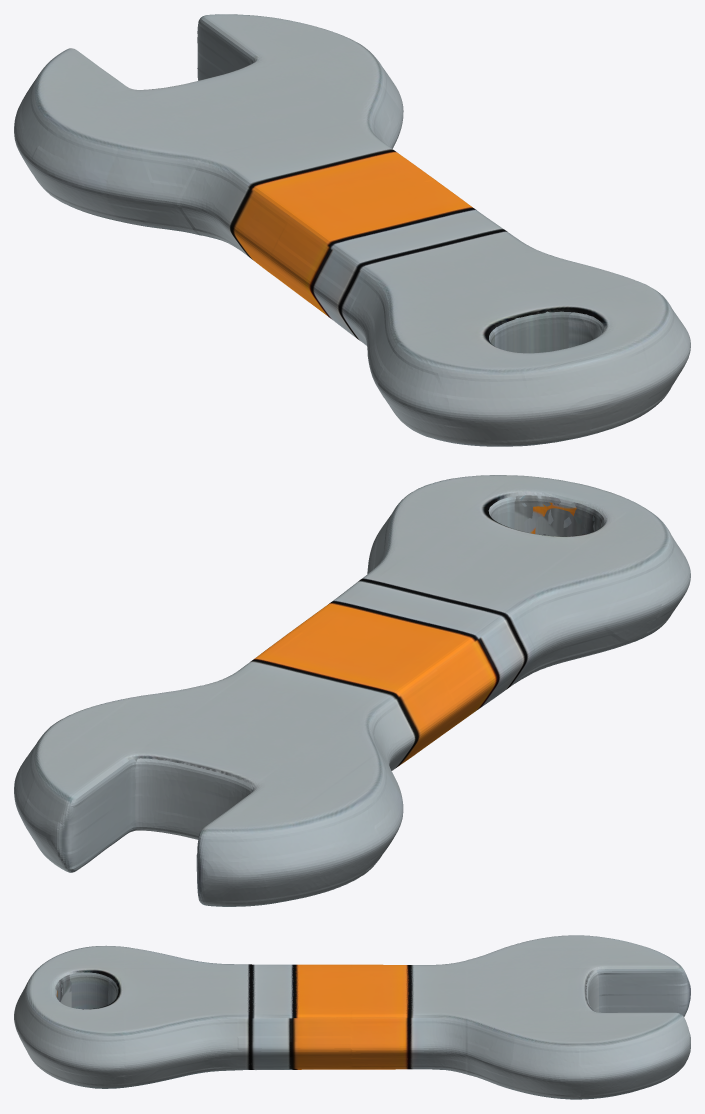
The model's file is hunyuan_space_wrench_textured.glb.
3 views of the same model, one above another, from view 1: azimuth 30°, elevation 25°; view 2: azimuth 150°, elevation 25°; view 3: azimuth 270°, elevation 25° (orthographic). The views are drawn at different scales.
Visible parts, largest first — view 1: tmp7aa1r_93.ply; view 2: tmp7aa1r_93.ply; view 3: tmp7aa1r_93.ply.
Boxes of the visible parts, x1,y1,x2,y2 form: tmp7aa1r_93.ply: (14, 14, 690, 446); tmp7aa1r_93.ply: (14, 475, 690, 906); tmp7aa1r_93.ply: (14, 935, 690, 1099).
Bounding box in the file's own units: 0.8657 × 0.1846 × 1.99.
1 material, 1 textured.
